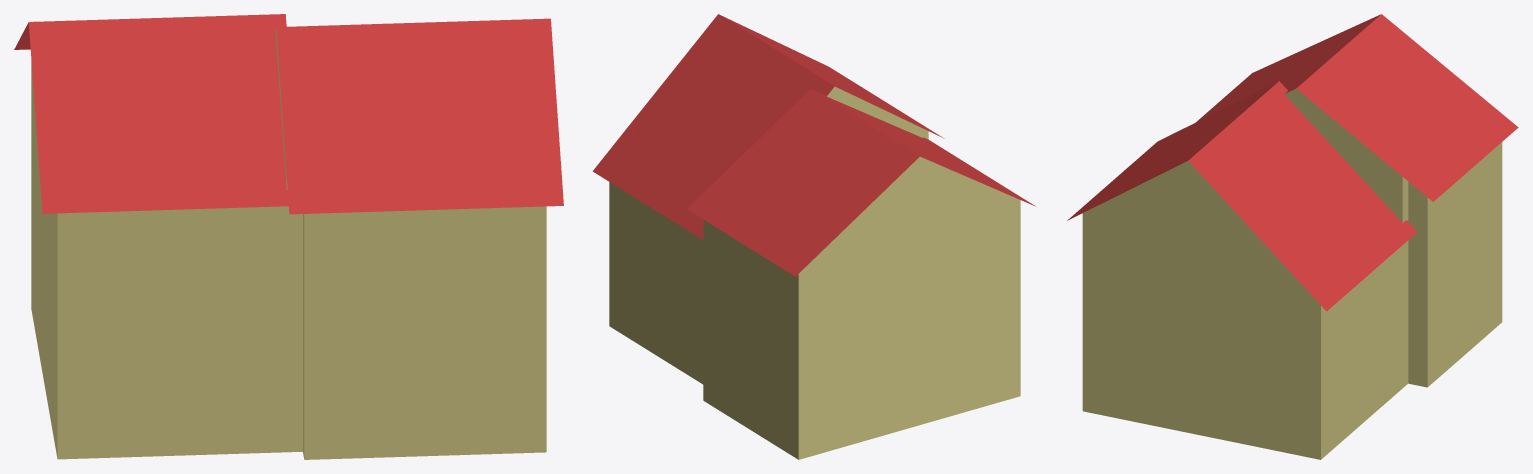
3 renders of one model, left to right at view 1: azimuth 30°, elevation 25°; view 2: azimuth 150°, elevation 25°; view 3: azimuth 270°, elevation 25°, orthographic. The views are drawn at different scales.
Size of the model in its own units: 19.29 by 18.3 by 12.41.
